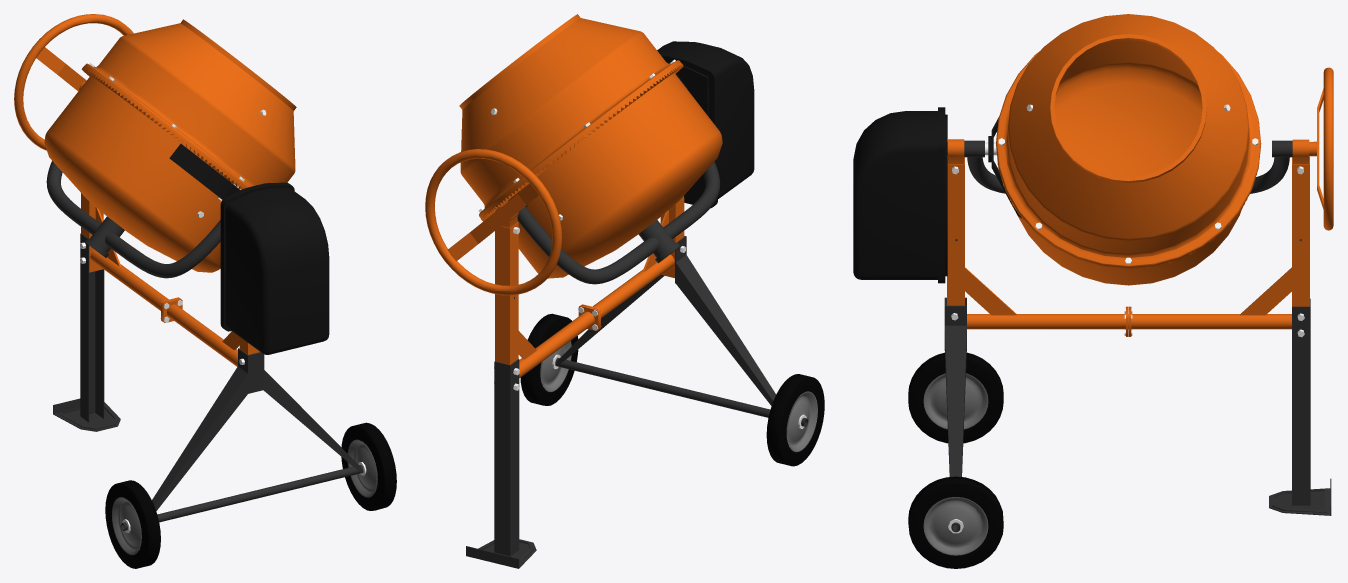
Rendered from mixer.glb.
The picture shows the model from 3 angles, left to right: view 1: azimuth 30°, elevation 25°; view 2: azimuth 150°, elevation 25°; view 3: azimuth 270°, elevation 25°; orthographic projection. The views are drawn at different scales.
Parts seen in each view (by area): view 1: Object_8, Object_2, Object_6, Object_4, Object_5, Object_7; view 2: Object_8, Object_6, Object_2, Object_4, Object_5, Object_7; view 3: Object_8, Object_2, Object_6, Object_4, Object_5, Object_7.
Part boxes in pixels (x1,y1,x2,y2): Object_8: (14,14,296,366); Object_2: (169,143,329,354); Object_6: (46,161,363,530); Object_4: (105,422,396,568); Object_5: (111,439,377,555); Object_7: (80,63,366,532); Object_8: (425,14,722,377); Object_6: (466,162,808,568); Object_2: (657,41,754,208); Object_4: (520,313,824,466); Object_5: (540,341,817,452); Object_7: (478,59,806,428); Object_8: (947,14,1333,336); Object_2: (853,107,1023,283); Object_6: (944,140,1331,532); Object_4: (908,352,1003,568); Object_5: (923,373,988,555); Object_7: (948,104,1304,533).
Bounding box in the file's own units: 0.8147 × 1.35 × 1.22.
